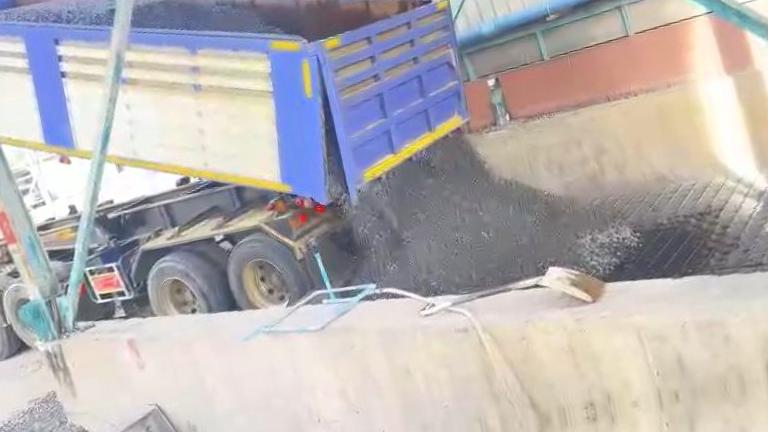gravel: (348, 134, 639, 294), (132, 0, 288, 32), (0, 393, 91, 432), (0, 0, 115, 24)
